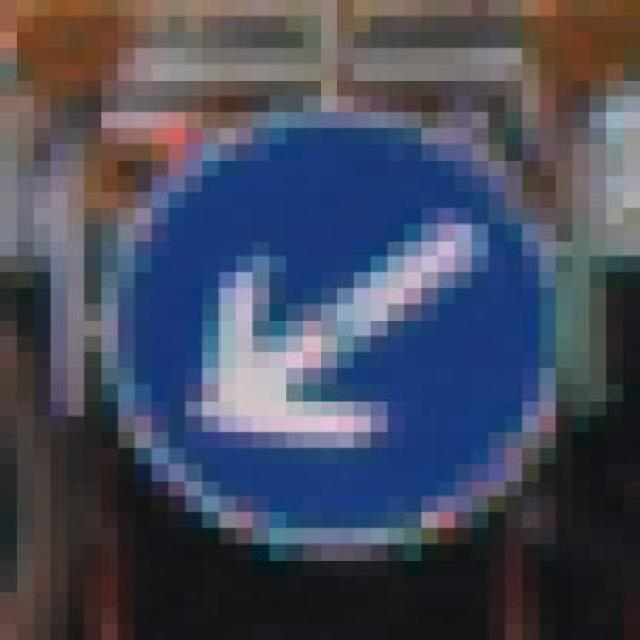Keep-Left: (84, 80, 590, 560)
